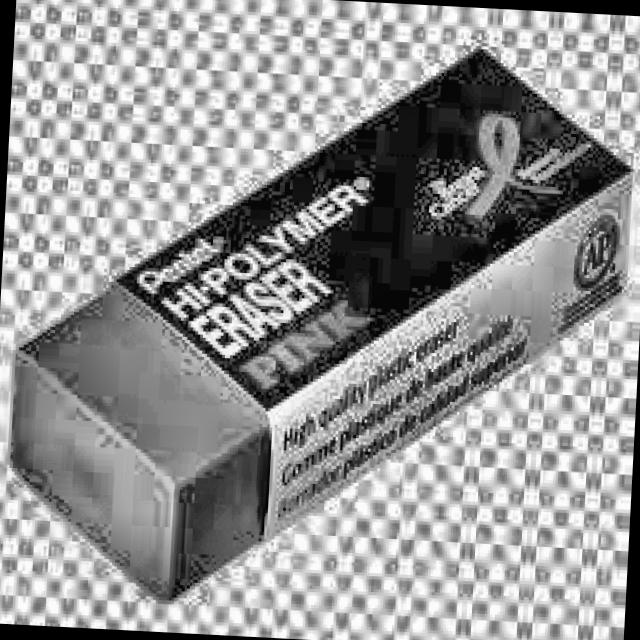eraser: (0, 19, 640, 627)
